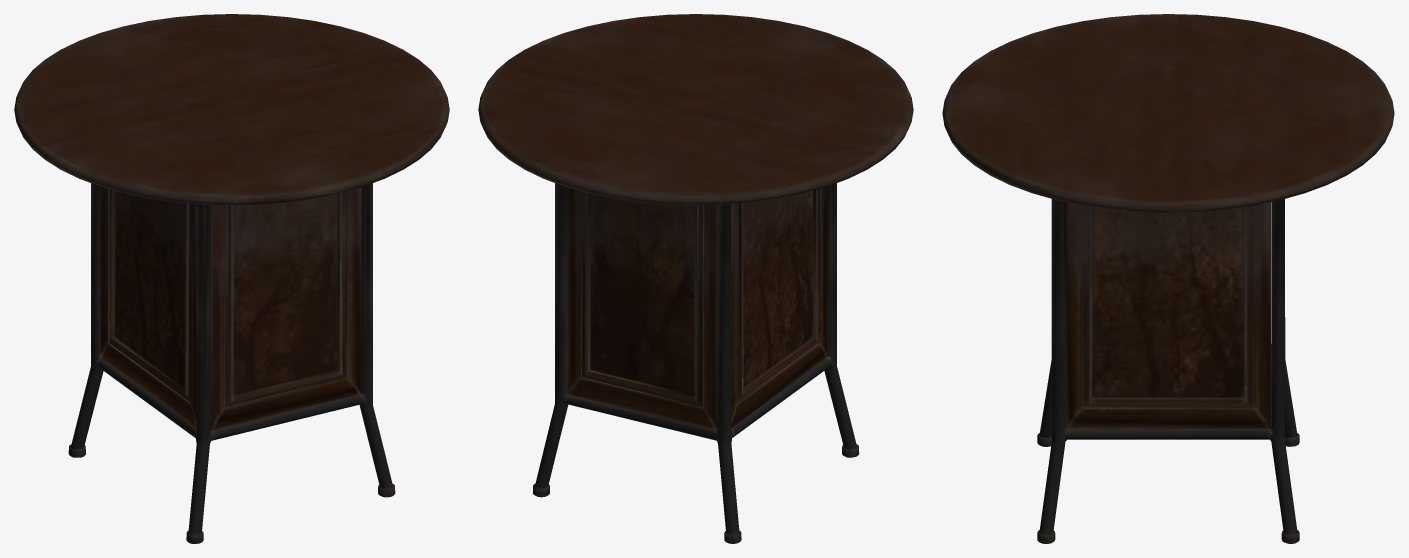
File: round_wooden_table_02.glb
3 renders of one model, left to right at view 1: azimuth 30°, elevation 25°; view 2: azimuth 150°, elevation 25°; view 3: azimuth 270°, elevation 25°, orthographic. The views are drawn at different scales.
Parts seen in each view (by area): view 1: round_wooden_table_02; view 2: round_wooden_table_02; view 3: round_wooden_table_02.
Part boxes in pixels (x1,y1,x2,y2): round_wooden_table_02: (14,14,449,543); round_wooden_table_02: (478,14,913,543); round_wooden_table_02: (942,14,1394,543).
Size of the model in its own units: 0.7962 by 0.7459 by 0.7962.
Materials: 1 (1 with a texture image).
